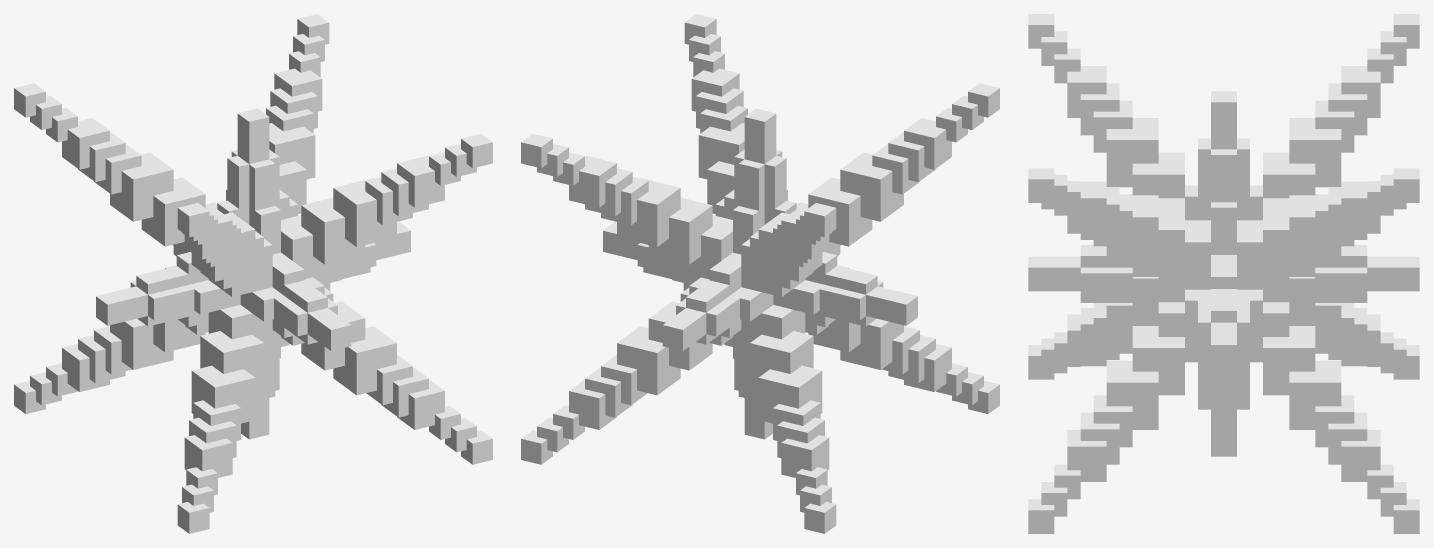
File: ball_spike.obj
The picture shows the model from 3 angles, left to right: view 1: azimuth 30°, elevation 25°; view 2: azimuth 150°, elevation 25°; view 3: azimuth 270°, elevation 25°; orthographic projection. The views are drawn at different scales.
Size of the model in its own units: 3 by 3 by 3.
Materials: 1 (1 with a texture image).
